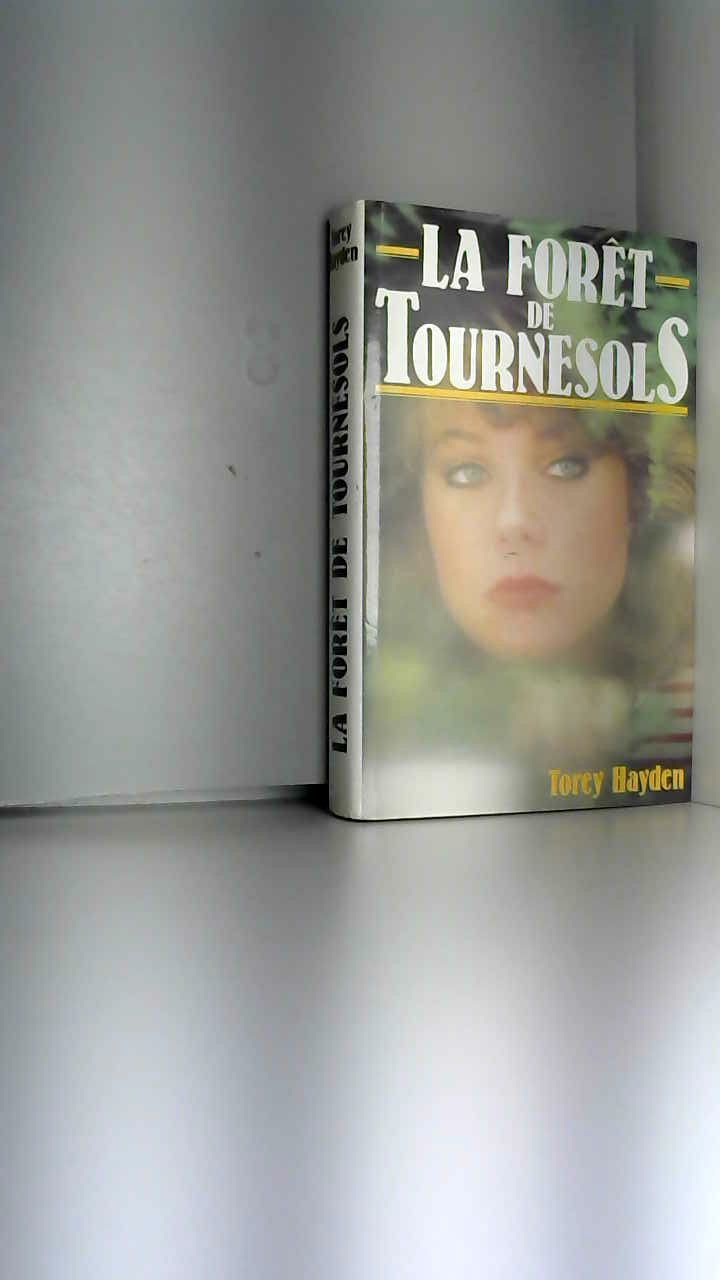book: (290, 170, 717, 848)
